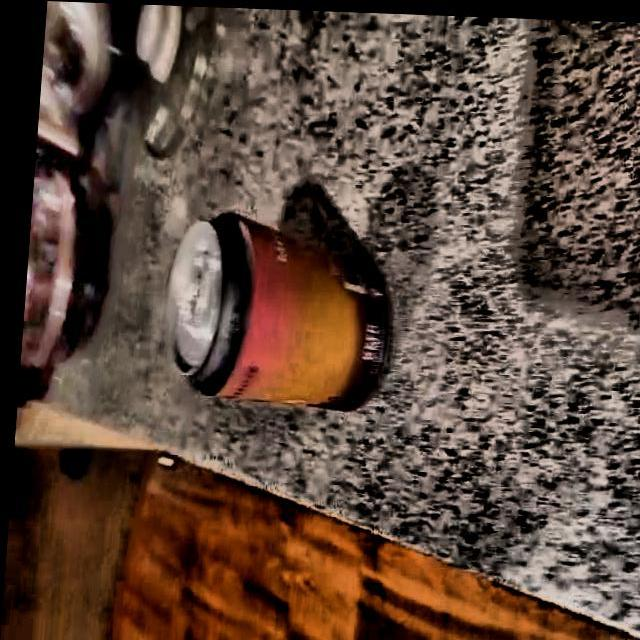litter: (141, 200, 402, 411)
